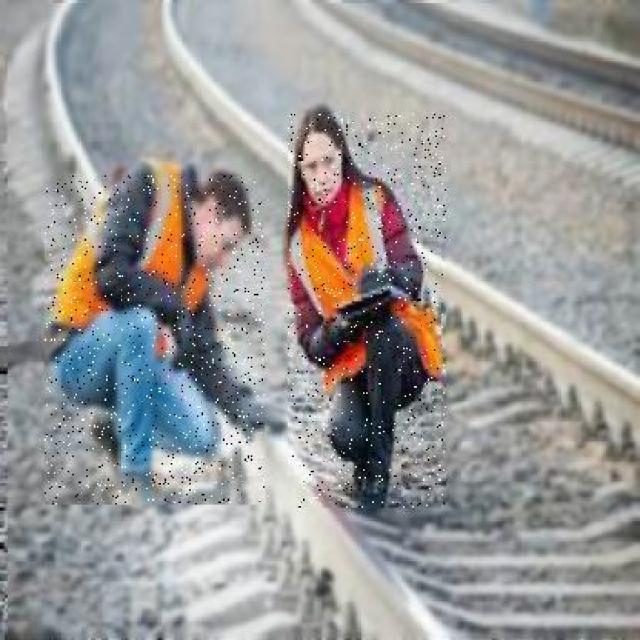danger: (44, 176, 264, 504), (288, 114, 447, 508)
rail: (8, 4, 640, 637)
